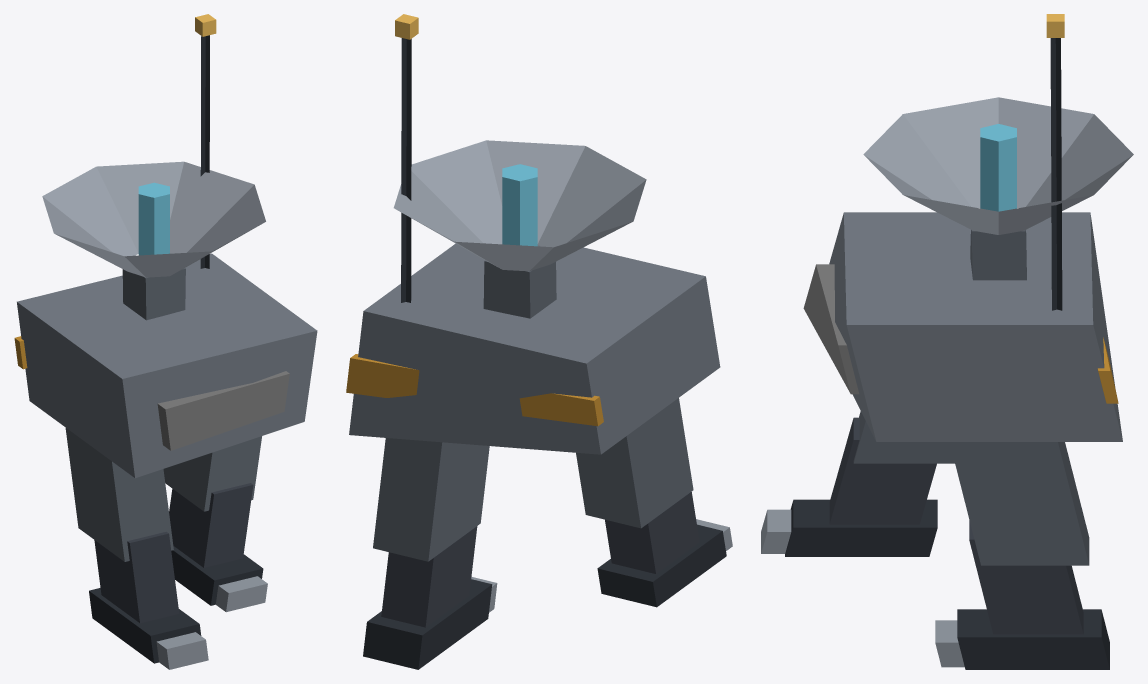
The model's file is hound-walk-6.obj.
3 views of the same model, side by side, from view 1: azimuth 30°, elevation 25°; view 2: azimuth 150°, elevation 25°; view 3: azimuth 270°, elevation 25° (orthographic). The views are drawn at different scales.
Parts seen in each view (by area): view 1: hound-walk-6; view 2: hound-walk-6; view 3: hound-walk-6.
Part boxes in pixels (bbox=[...]): hound-walk-6: bbox=[14, 14, 317, 669]; hound-walk-6: bbox=[346, 14, 732, 669]; hound-walk-6: bbox=[761, 14, 1133, 669].
Bounding box in the file's own units: 0.92 × 2.36 × 1.24.
